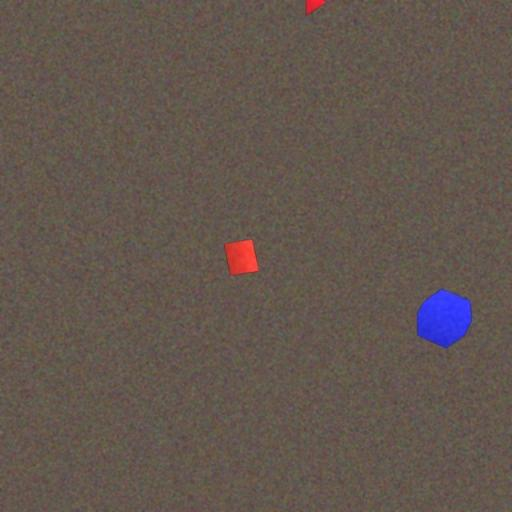RED_SQUARE: (223, 238, 260, 276)
